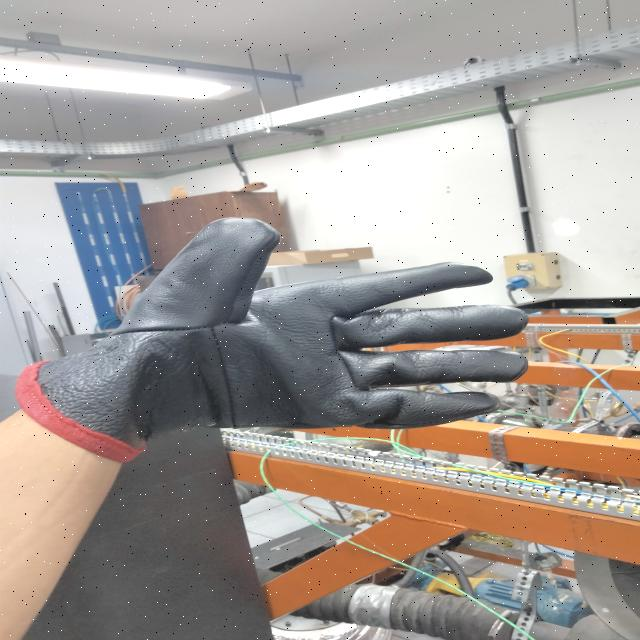Gloves: (33, 215, 501, 456)
